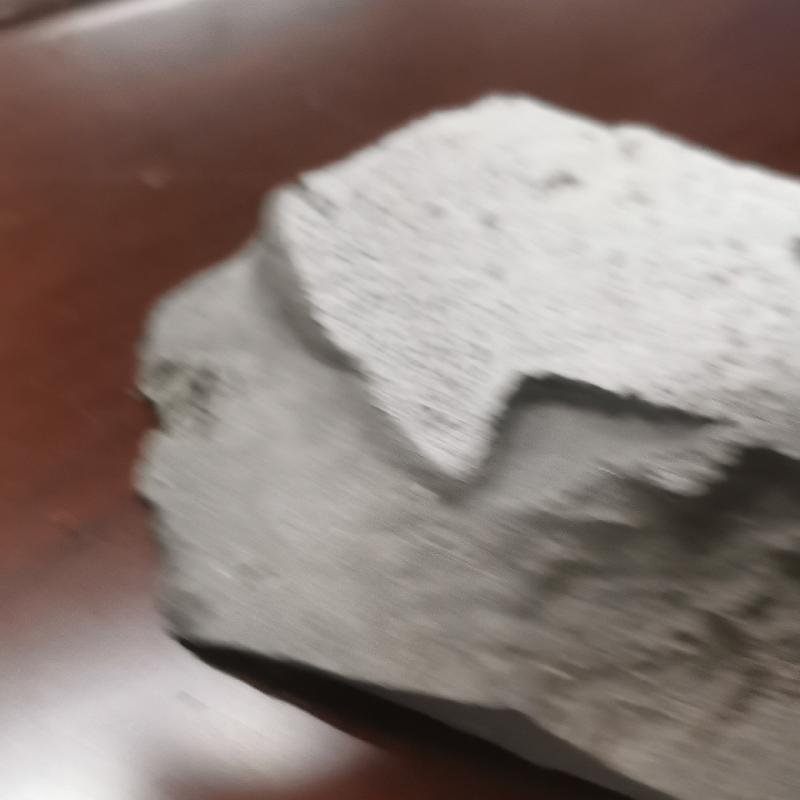tile: (125, 88, 800, 800)
